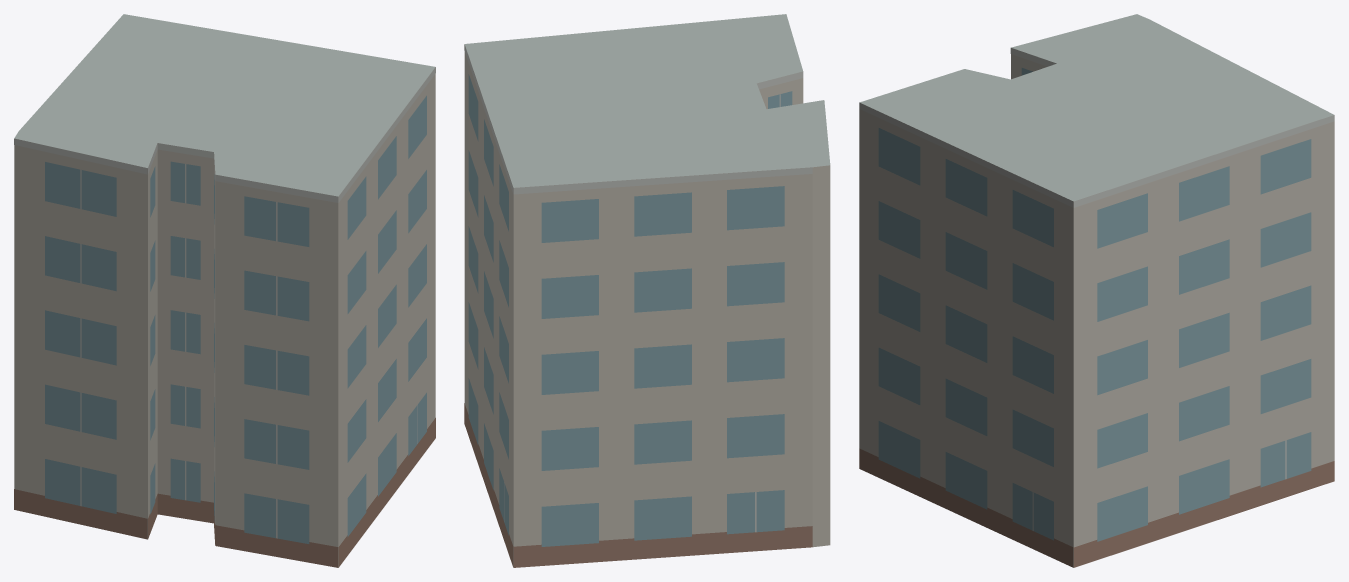
The model's file is survey-upis-32840659.glb.
3 views of the same model, side by side, from view 1: azimuth 30°, elevation 25°; view 2: azimuth 150°, elevation 25°; view 3: azimuth 270°, elevation 25° (orthographic). The views are drawn at different scales.
Visible parts, largest first — view 1: survey-upis-32840659.tmp; view 2: survey-upis-32840659.tmp; view 3: survey-upis-32840659.tmp.
Part boxes in pixels (left/top/right/bottom): survey-upis-32840659.tmp: left=14, top=14, right=435, bottom=567; survey-upis-32840659.tmp: left=464, top=14, right=830, bottom=567; survey-upis-32840659.tmp: left=859, top=14, right=1334, bottom=567.
Size of the model in its own units: 15.38 by 14 by 16.46.
